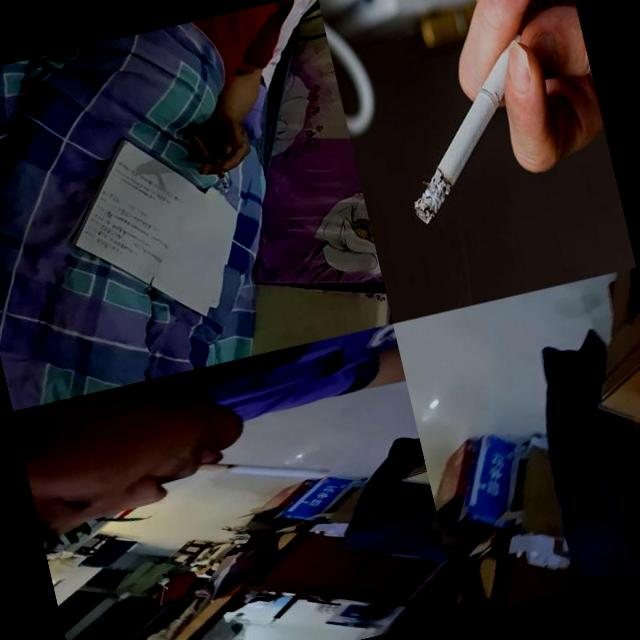cigarette: (380, 30, 560, 228), (195, 432, 332, 504), (214, 158, 229, 190)
